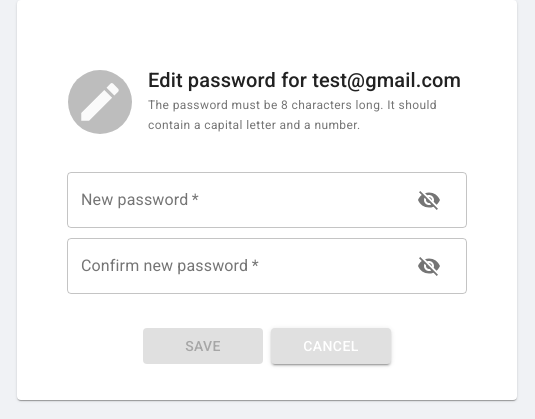
The ChangePasswordForm component › should display error if no capital letter in password
Type "no capital letter password" into the password field with test id "newPassword" at (232, 200), box [67, 172, 397, 228]
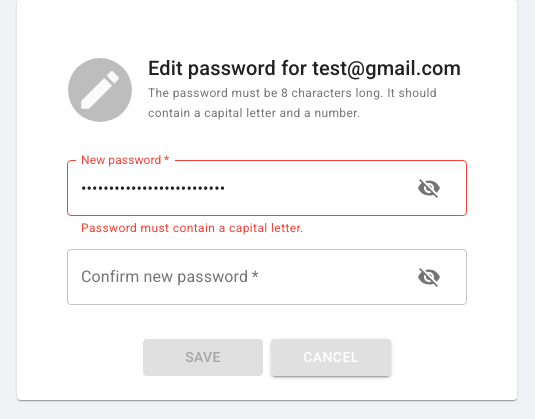
expect the text "Password must contain a capital letter." is shown: met, box [81, 221, 304, 235]
